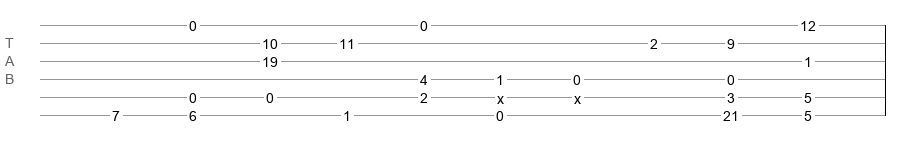0: (189, 18, 197, 28), (189, 90, 197, 100), (266, 90, 274, 100), (420, 18, 428, 28), (496, 108, 504, 118), (573, 72, 581, 82), (727, 72, 735, 82)
1: (343, 108, 351, 118), (496, 72, 504, 82), (804, 54, 812, 64)
10: (262, 36, 278, 46)
11: (339, 36, 355, 46)
12: (800, 18, 816, 28)
19: (262, 54, 278, 64)
2: (420, 90, 428, 100), (650, 36, 658, 46)
21: (723, 108, 739, 118)
3: (727, 90, 735, 100)
4: (420, 72, 428, 82)
5: (804, 108, 812, 118), (804, 90, 812, 100)
6: (189, 108, 197, 118)
7: (112, 108, 120, 118)
9: (727, 36, 735, 46)
x: (497, 91, 504, 99), (574, 91, 581, 99)
